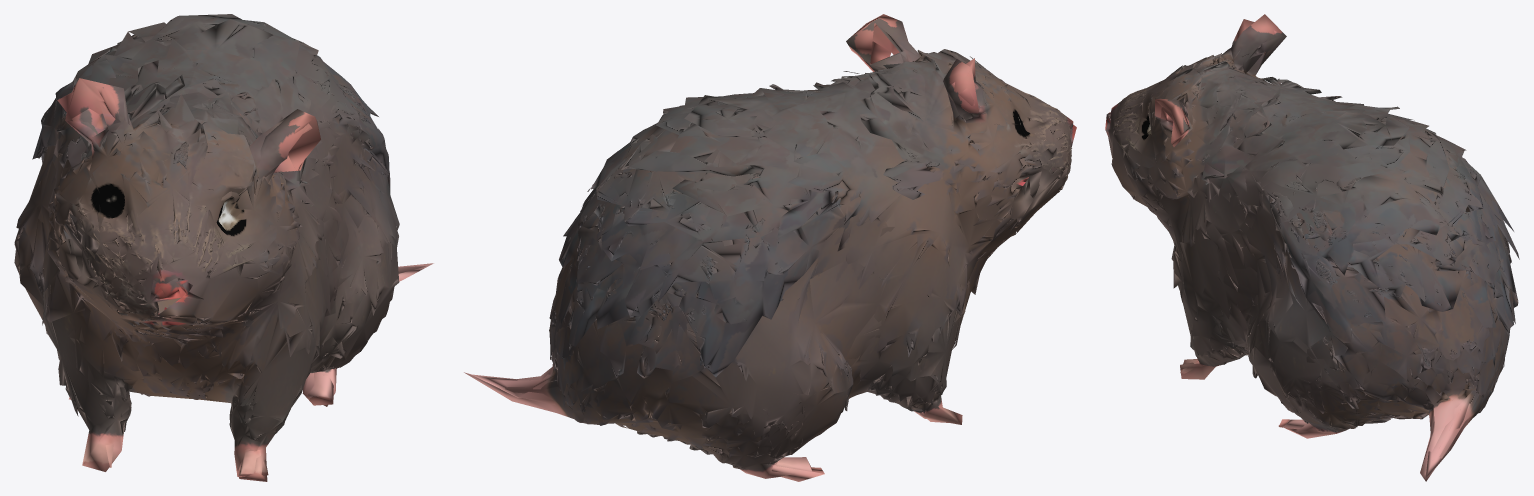
Rendered from rat.glb.
3 views of the same model, side by side, from view 1: azimuth 30°, elevation 25°; view 2: azimuth 150°, elevation 25°; view 3: azimuth 270°, elevation 25° (orthographic). The views are drawn at different scales.
Size of the model in its own units: 0.7683 by 0.6029 by 0.701.
1 material, 1 textured.
